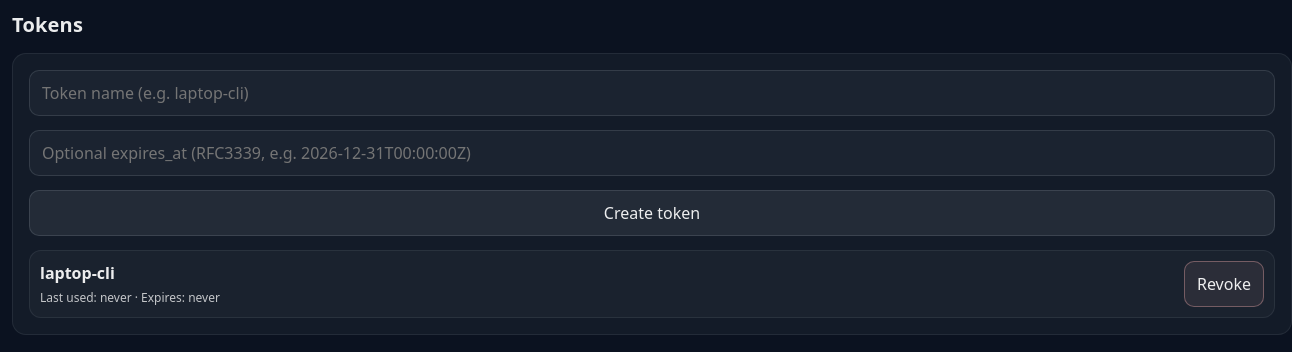
TokenManagerPage › revokes a token
Expected: the text "laptop-cli" is shown, x1=40 y1=262 x2=115 y2=284
Click the button "Revoke" at (1224, 284), box x1=1184 y1=261 x2=1264 y2=307
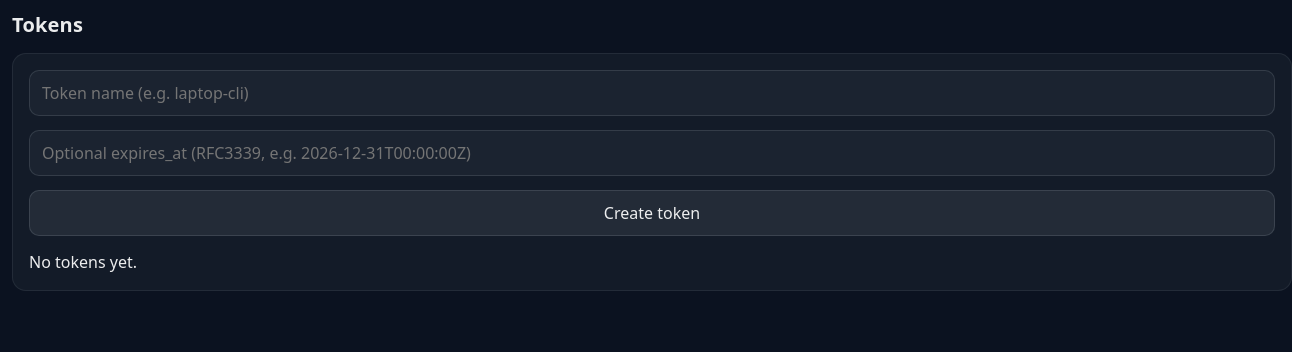
Now the text "No tokens yet." is shown, box x1=29 y1=251 x2=137 y2=273
